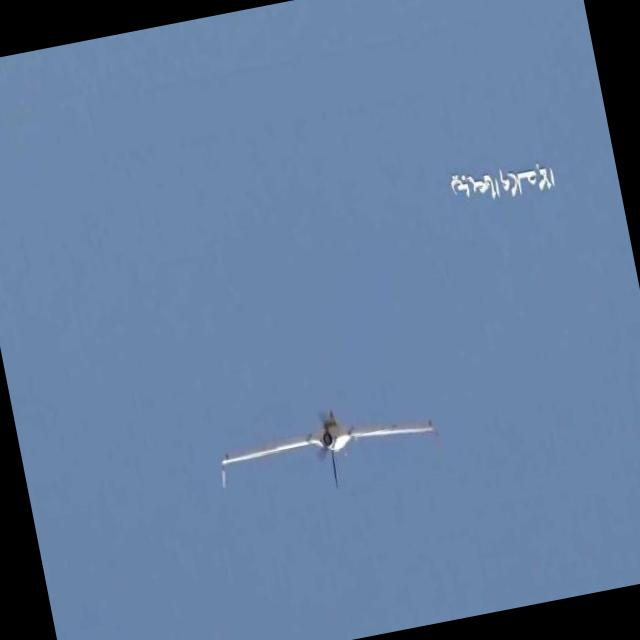UAV: (184, 378, 440, 492)
